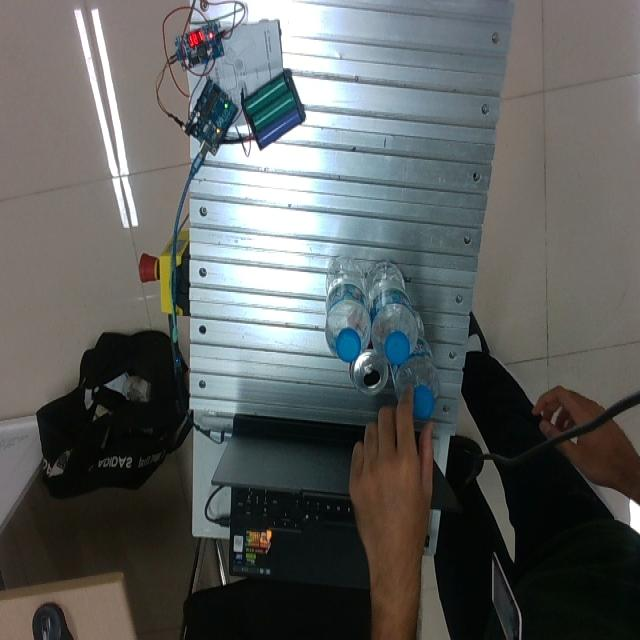coca: (349, 339, 390, 396)
lavie: (365, 262, 419, 366), (390, 309, 440, 415), (324, 258, 371, 362)
